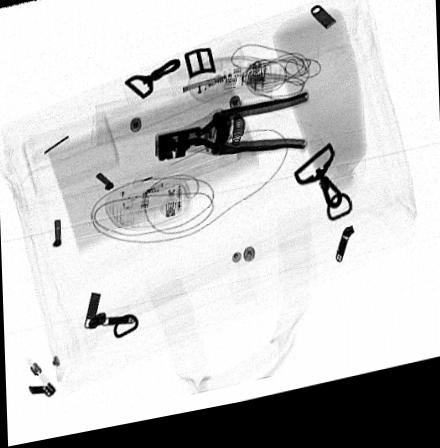Pliers: (152, 103, 310, 170)
